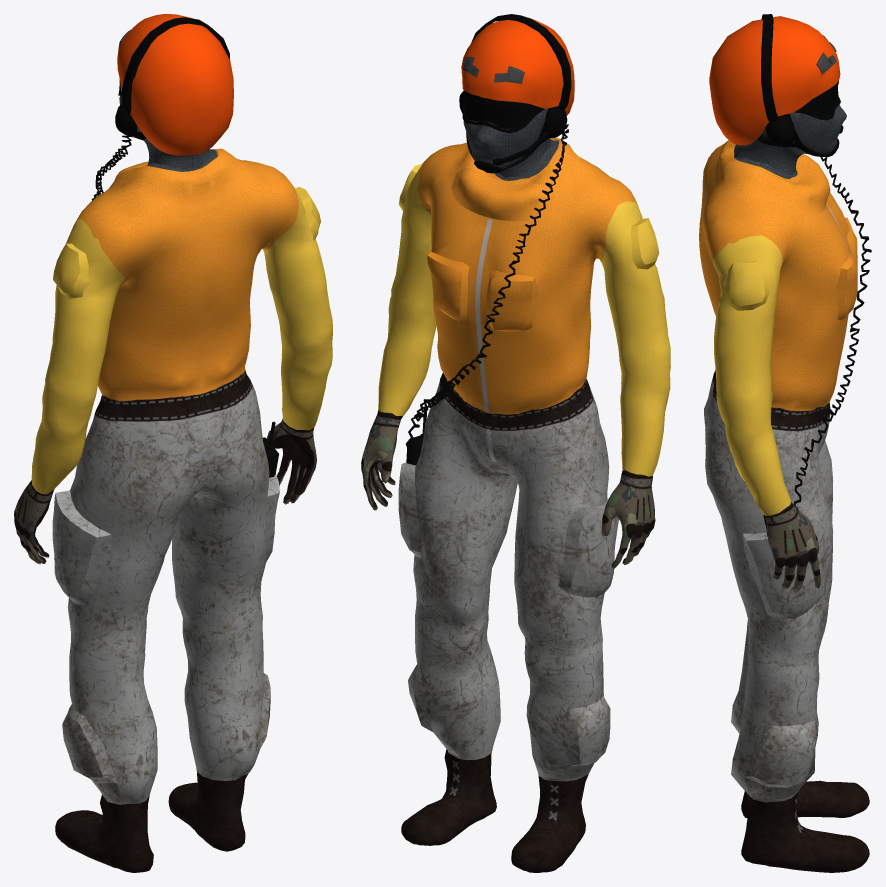
File: crew_yellow.obj
The picture shows the model from 3 angles, left to right: view 1: azimuth 30°, elevation 25°; view 2: azimuth 150°, elevation 25°; view 3: azimuth 270°, elevation 25°; orthographic projection. The views are drawn at different scales.
Parts seen in each view (by area): view 1: l/carrier_crew.fbx/RootNode/Man.008/Man.008_soldier_yellow_0, el/carrier_crew.fbx/RootNode/Man.009/Man.009_helmet_yellow_0, l/carrier_crew.fbx/RootNode/coms.004/coms.004_Material.009_0; view 2: l/carrier_crew.fbx/RootNode/Man.008/Man.008_soldier_yellow_0, el/carrier_crew.fbx/RootNode/Man.009/Man.009_helmet_yellow_0, l/carrier_crew.fbx/RootNode/coms.004/coms.004_Material.009_0, ode/coms_spiral_cord.004/coms_spiral_cord.004_Material.004_0, carrier_crew.fbx/RootNode/visor.004/visor.004_glass_visors_0, carrier_crew.fbx/RootNode/visor.004/visor.004_Material.004_0, del/carrier_crew.fbx/RootNode/Man.009/Man.009_helmet_white_0; view 3: l/carrier_crew.fbx/RootNode/Man.008/Man.008_soldier_yellow_0, el/carrier_crew.fbx/RootNode/Man.009/Man.009_helmet_yellow_0, l/carrier_crew.fbx/RootNode/coms.004/coms.004_Material.009_0, ode/coms_spiral_cord.004/coms_spiral_cord.004_Material.004_0, carrier_crew.fbx/RootNode/visor.004/visor.004_Material.004_0.
Part boxes in pixels (box(x1,y1,x2,y2)): l/carrier_crew.fbx/RootNode/Man.008/Man.008_soldier_yellow_0: box(14, 95, 332, 872); el/carrier_crew.fbx/RootNode/Man.009/Man.009_helmet_yellow_0: box(117, 14, 233, 155); l/carrier_crew.fbx/RootNode/coms.004/coms.004_Material.009_0: box(115, 17, 229, 139); l/carrier_crew.fbx/RootNode/Man.008/Man.008_soldier_yellow_0: box(361, 108, 670, 872); el/carrier_crew.fbx/RootNode/Man.009/Man.009_helmet_yellow_0: box(461, 17, 574, 115); l/carrier_crew.fbx/RootNode/coms.004/coms.004_Material.009_0: box(459, 14, 571, 173); ode/coms_spiral_cord.004/coms_spiral_cord.004_Material.004_0: box(405, 107, 568, 452); carrier_crew.fbx/RootNode/visor.004/visor.004_glass_visors_0: box(464, 96, 524, 129); carrier_crew.fbx/RootNode/visor.004/visor.004_Material.004_0: box(462, 91, 544, 133); del/carrier_crew.fbx/RootNode/Man.009/Man.009_helmet_white_0: box(462, 56, 524, 84); l/carrier_crew.fbx/RootNode/Man.008/Man.008_soldier_yellow_0: box(699, 105, 869, 872); el/carrier_crew.fbx/RootNode/Man.009/Man.009_helmet_yellow_0: box(709, 16, 840, 145); l/carrier_crew.fbx/RootNode/coms.004/coms.004_Material.009_0: box(758, 14, 843, 156); ode/coms_spiral_cord.004/coms_spiral_cord.004_Material.004_0: box(793, 157, 871, 511); carrier_crew.fbx/RootNode/visor.004/visor.004_Material.004_0: box(794, 81, 840, 120).
Size of the model in its own units: 0.6571 by 1.8 by 0.3434.
9 materials, 2 textured.
